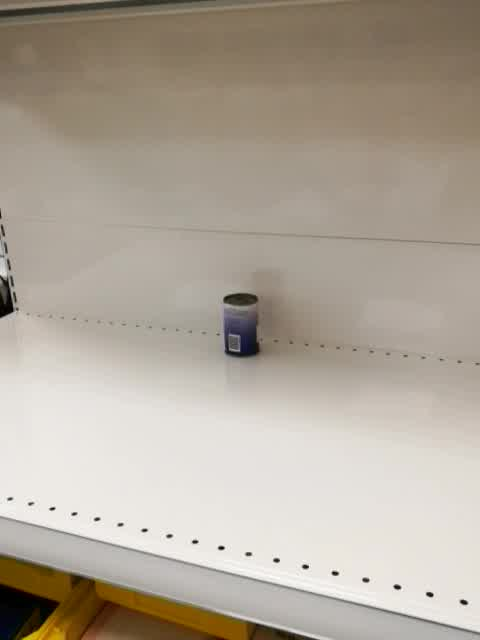sardine: (222, 291, 261, 358)
